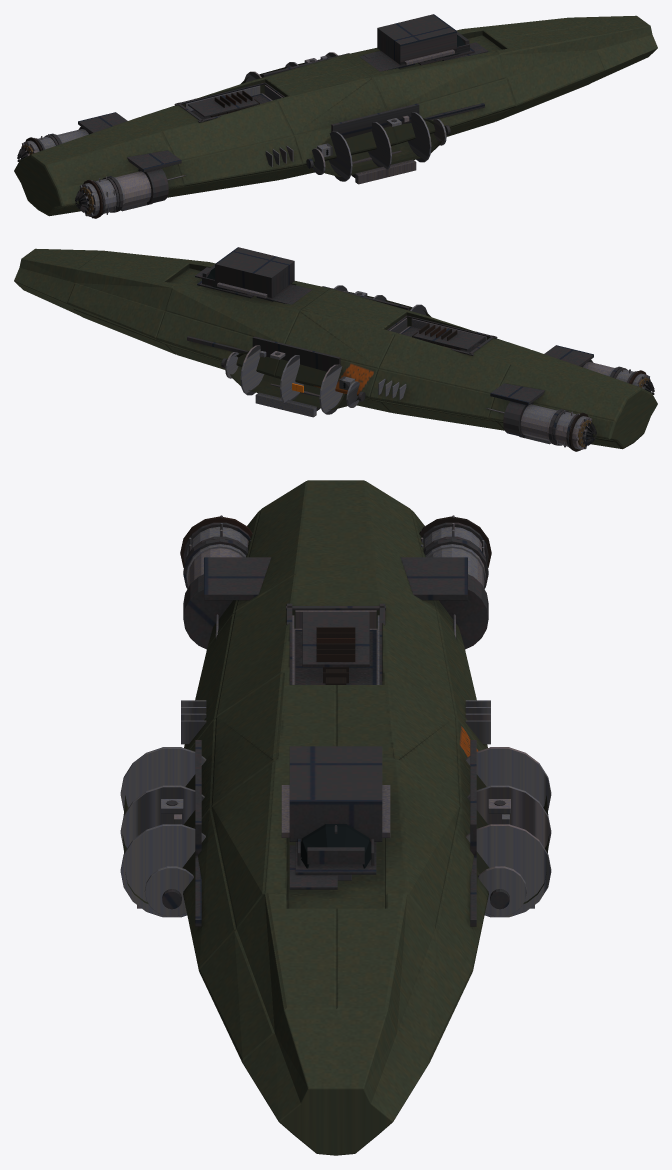
File: mule_production_v1_lod0.glb
3 renders of one model, top to bottom at view 1: azimuth 30°, elevation 25°; view 2: azimuth 150°, elevation 25°; view 3: azimuth 270°, elevation 25°, orthographic. The views are drawn at different scales.
Parts seen in each view (by area): view 1: LOD0_Hull, LOD0_Armor, LOD0_Mechanical, LOD0_Radiator; view 2: LOD0_Hull, LOD0_Armor, LOD0_Mechanical, LOD0_Radiator; view 3: LOD0_Hull, LOD0_Armor, LOD0_Mechanical, LOD0_Radiator, LOD0_Canopy.
Boxes of the visible parts, x1,y1,x2,y2 form: LOD0_Hull: [14, 15, 657, 216]; LOD0_Armor: [17, 14, 488, 215]; LOD0_Mechanical: [21, 49, 454, 218]; LOD0_Radiator: [25, 90, 259, 218]; LOD0_Hull: [14, 248, 657, 449]; LOD0_Armor: [187, 247, 654, 448]; LOD0_Mechanical: [217, 282, 650, 450]; LOD0_Radiator: [412, 323, 646, 451]; LOD0_Hull: [122, 480, 549, 1155]; LOD0_Armor: [162, 522, 509, 926]; LOD0_Mechanical: [120, 515, 551, 917]; LOD0_Radiator: [180, 516, 491, 684]; LOD0_Canopy: [300, 824, 371, 868].
Size of what is drawn, in the model's own units: 17.51 by 2.95 by 5.39.
Materials: 9 (9 with a texture image).
